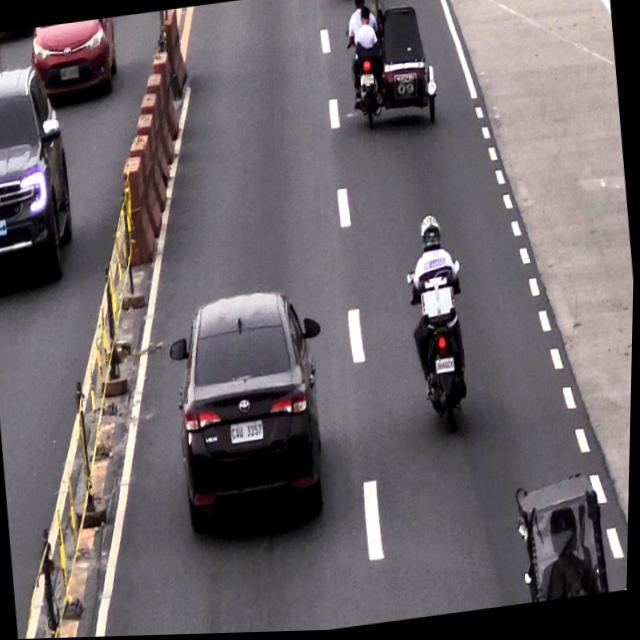Car: (173, 295, 327, 521)
License-Plate: (231, 419, 268, 445), (434, 355, 459, 379)
Motorcycle: (400, 204, 477, 435)
Tricycle: (343, 0, 437, 132)
